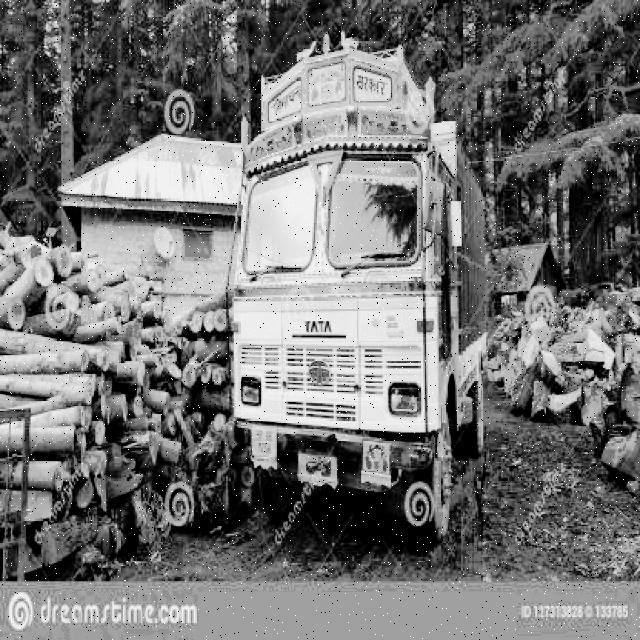HCV: (234, 97, 484, 565)
